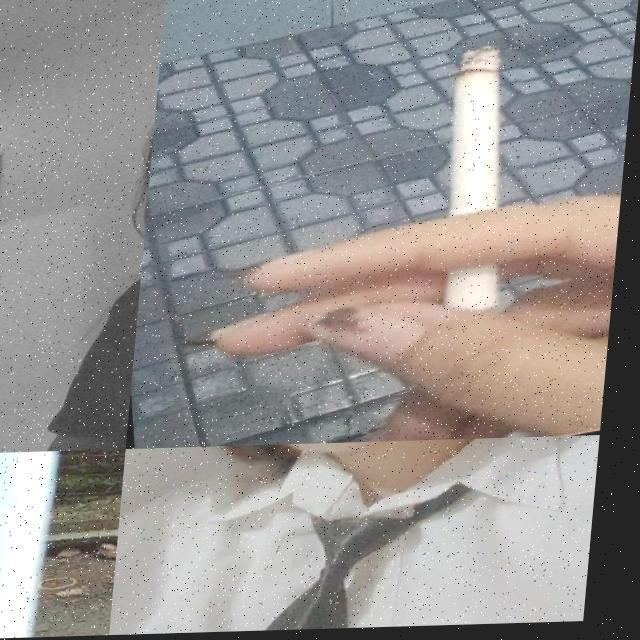cigarette: (440, 53, 522, 322)
